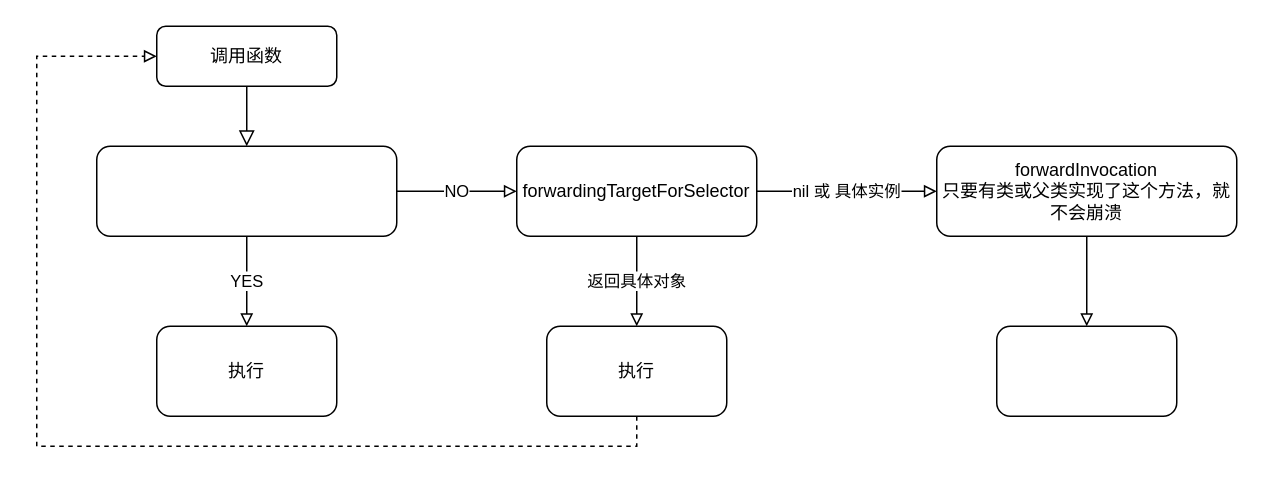
This 1263x485 diagram has some shape labels left out. Each missing label, with the centre of its shape:
"实例方法：resolveInstanceMethod 类方法：resolveClassMethod" goes at (246,190).
"手动处理" goes at (1086,370).
